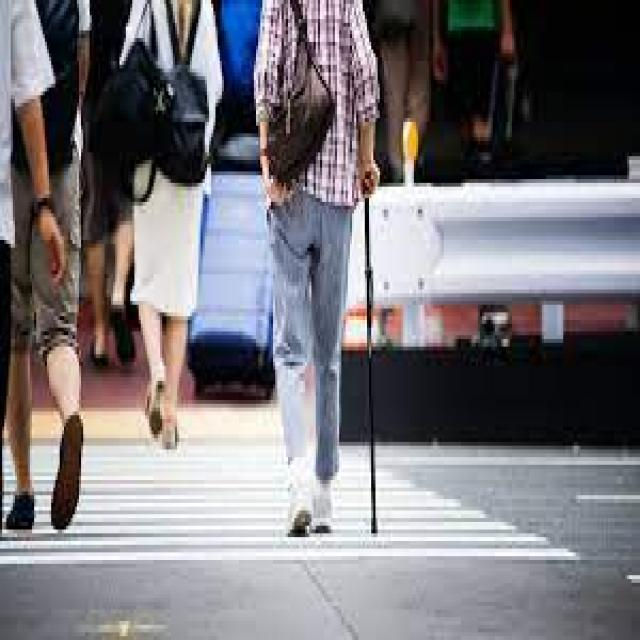Pedestrians: (254, 4, 380, 533), (115, 4, 222, 453), (4, 4, 88, 533)
